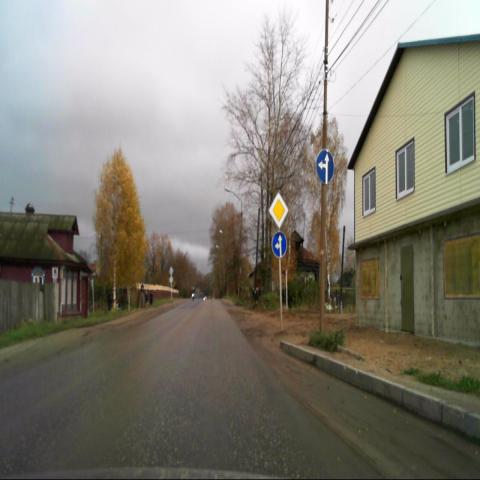4_1_5: (316, 149, 334, 185), (271, 231, 287, 259)
